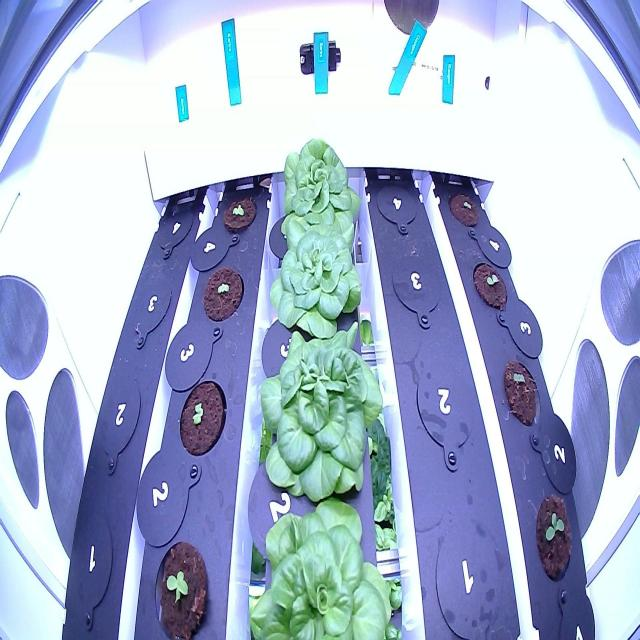empty_pod: (428, 502, 509, 637), (412, 343, 477, 480), (65, 502, 116, 639), (92, 358, 146, 479), (388, 240, 444, 336), (126, 267, 174, 354), (374, 164, 422, 240), (154, 191, 197, 267)
germination: (176, 366, 232, 462), (198, 250, 248, 330), (499, 347, 546, 432), (532, 491, 572, 587), (468, 251, 514, 314), (216, 172, 261, 236), (444, 173, 486, 236)
young: (254, 314, 389, 508), (245, 480, 408, 640), (260, 209, 388, 343), (269, 130, 371, 250), (150, 528, 212, 640)
